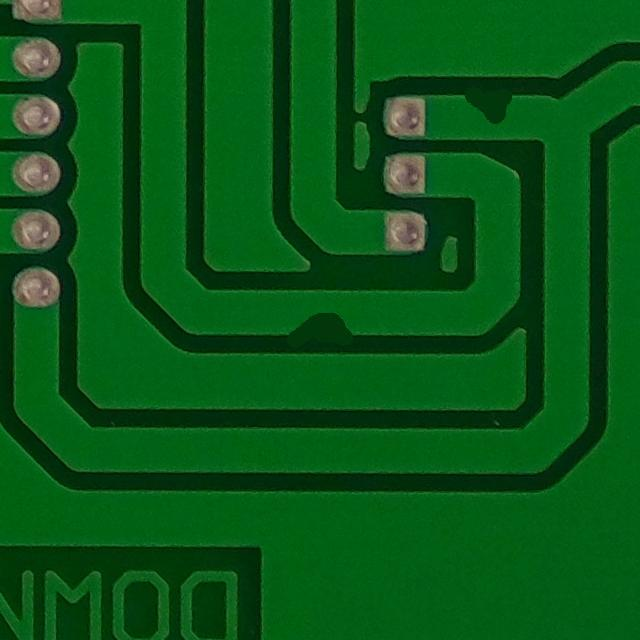mouse_bite: (277, 289, 363, 352)
